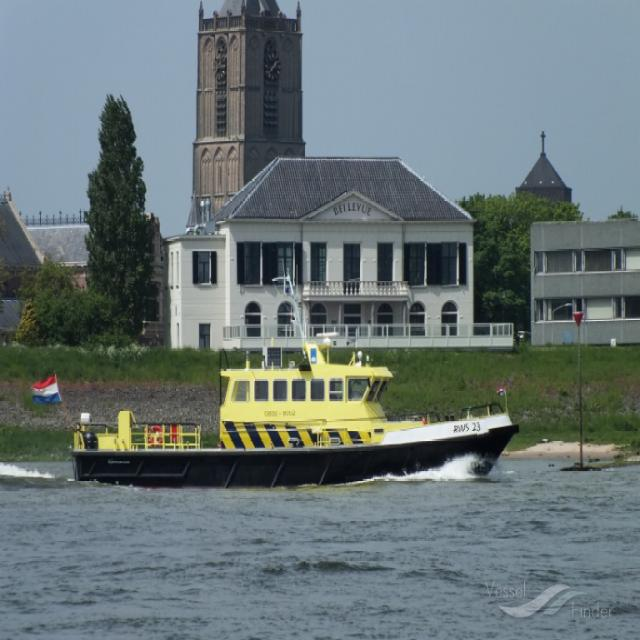OCR: (445, 416, 486, 438)
